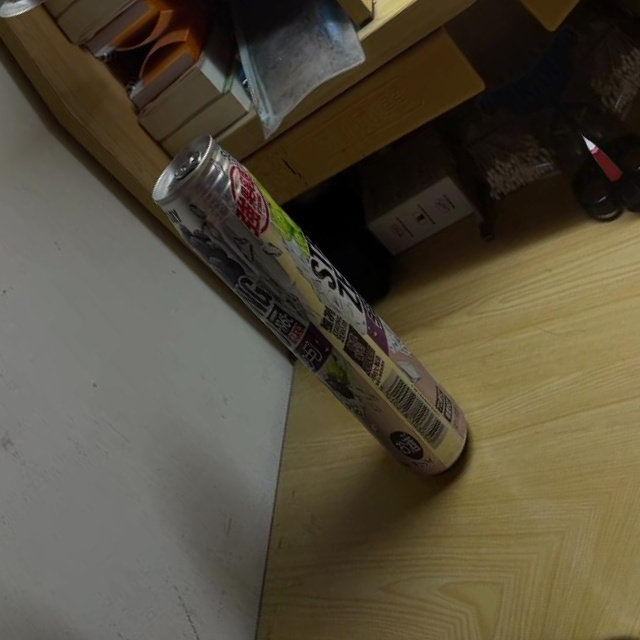Liquor: (136, 116, 489, 508)
